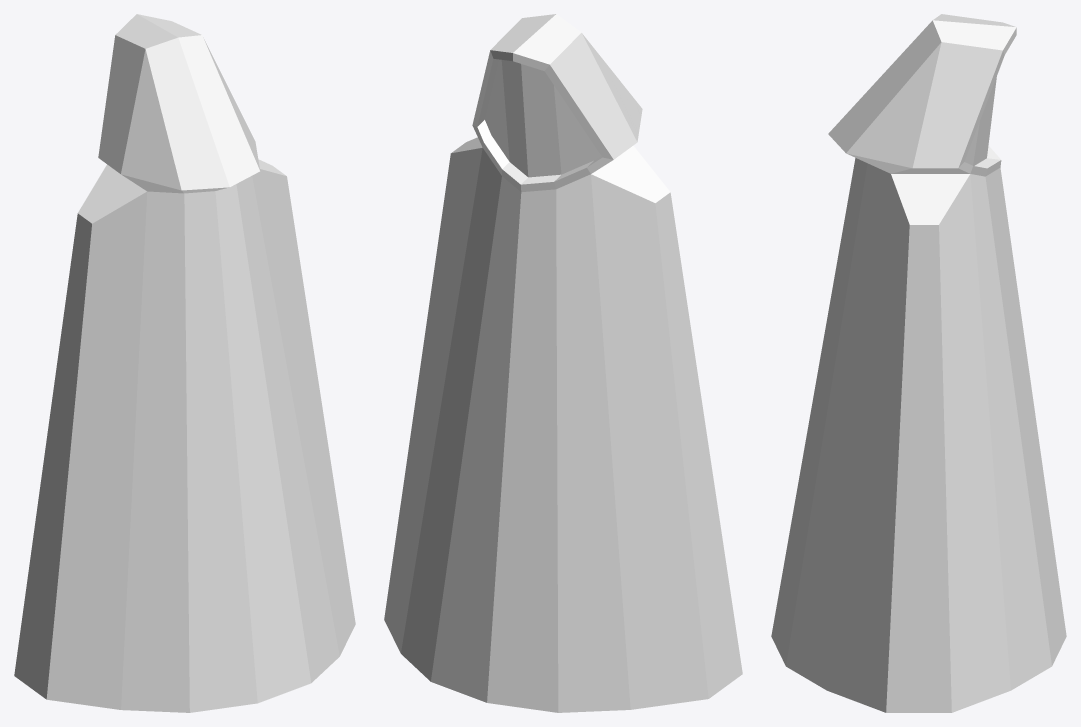
The model's file is avatar_capuchon.glb.
The picture shows the model from 3 angles, left to right: view 1: azimuth 30°, elevation 25°; view 2: azimuth 150°, elevation 25°; view 3: azimuth 270°, elevation 25°; orthographic projection. The views are drawn at different scales.
Parts seen in each view (by area): view 1: Capuchon; view 2: Capuchon; view 3: Capuchon.
Boxes of the visible parts, x1=… form: Capuchon: x1=14, y1=14, x2=355, y2=712; Capuchon: x1=384, y1=14, x2=742, y2=712; Capuchon: x1=771, y1=14, x2=1066, y2=712.
Size of the model in its own units: 0.8708 by 1.64 by 0.7105.
Materials: 1 (1 with a texture image).
